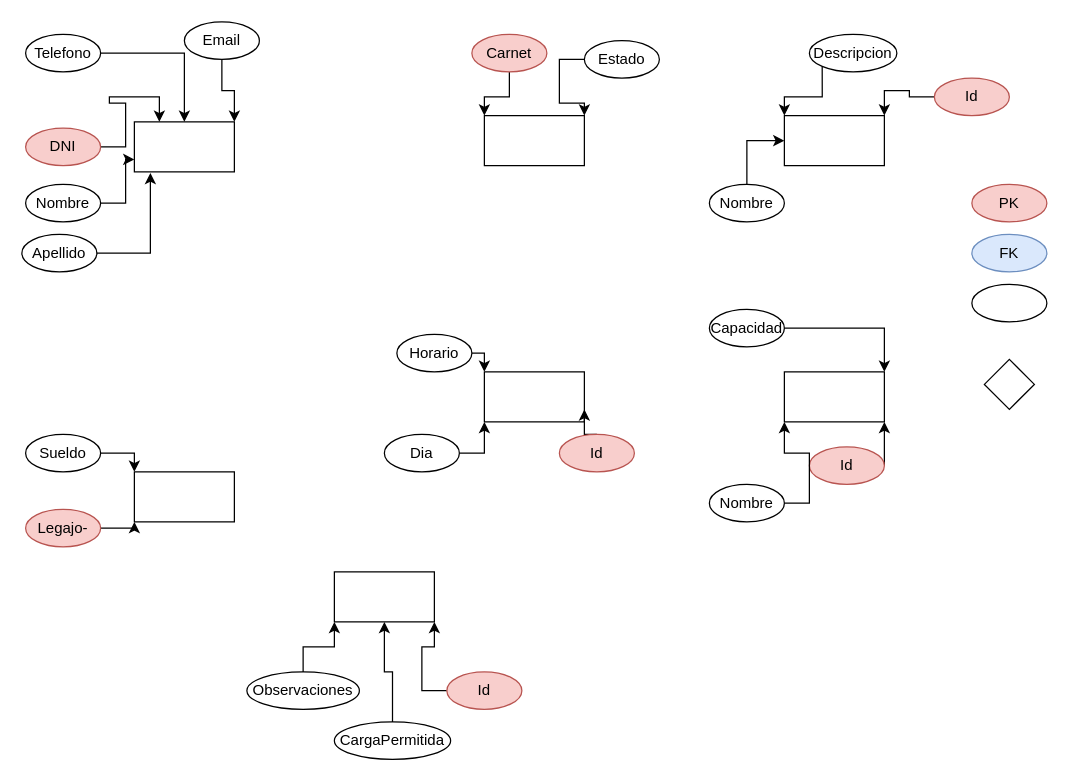
Some shapes in this 1069 by 781 pixel diagram are drawn without their labels. Each missing label, with the centre of its shape:
"Actividad" belongs at point 833,140.
"Clase" belongs at point 533,396.
"FichaMedica" belongs at point 383,596.
"Persona" belongs at point 183,146.
"Profesor" belongs at point 183,496.
"Salon" belongs at point 833,396.
"Socio" belongs at point 533,140.
